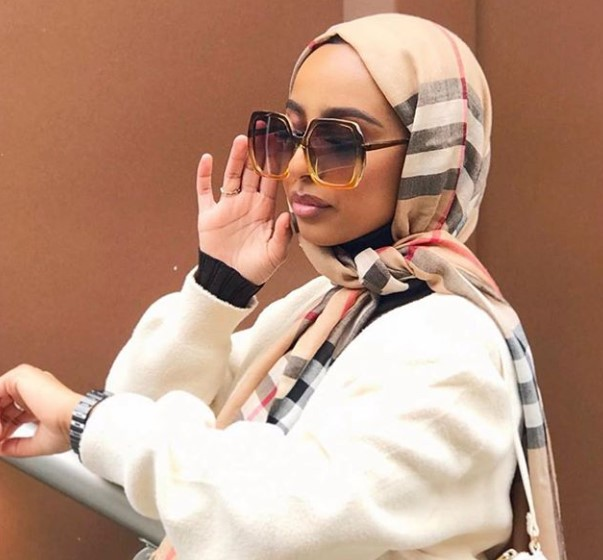face_no_mask: (278, 30, 438, 251)
